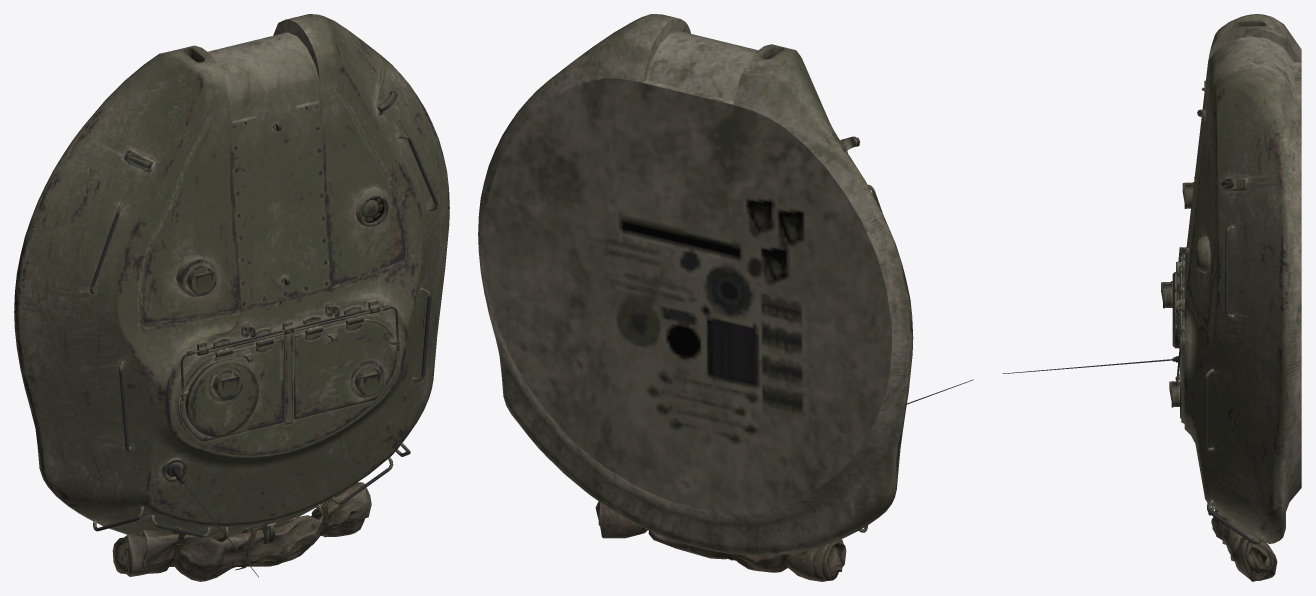
File: Turret_01.glb
3 views of the same model, side by side, from view 1: azimuth 30°, elevation 25°; view 2: azimuth 150°, elevation 25°; view 3: azimuth 270°, elevation 25° (orthographic). The views are drawn at different scales.
Parts seen in each view (by area): view 1: set_0_group_0; view 2: set_0_group_0; view 3: set_0_group_0.
Part boxes in pixels (left/top/right/bottom): set_0_group_0: left=14, top=14, right=449, bottom=581; set_0_group_0: left=478, top=14, right=973, bottom=581; set_0_group_0: left=1002, top=14, right=1301, bottom=581.
Bounding box in the file's own units: 2.99 × 3.48 × 1.92.
Materials: 1 (1 with a texture image).
